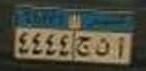4: (45, 32, 57, 58), (18, 30, 30, 56), (58, 34, 70, 58), (31, 32, 43, 56)
alif: (116, 36, 126, 61)
jeem: (76, 34, 92, 60)
noon: (95, 36, 111, 59)
